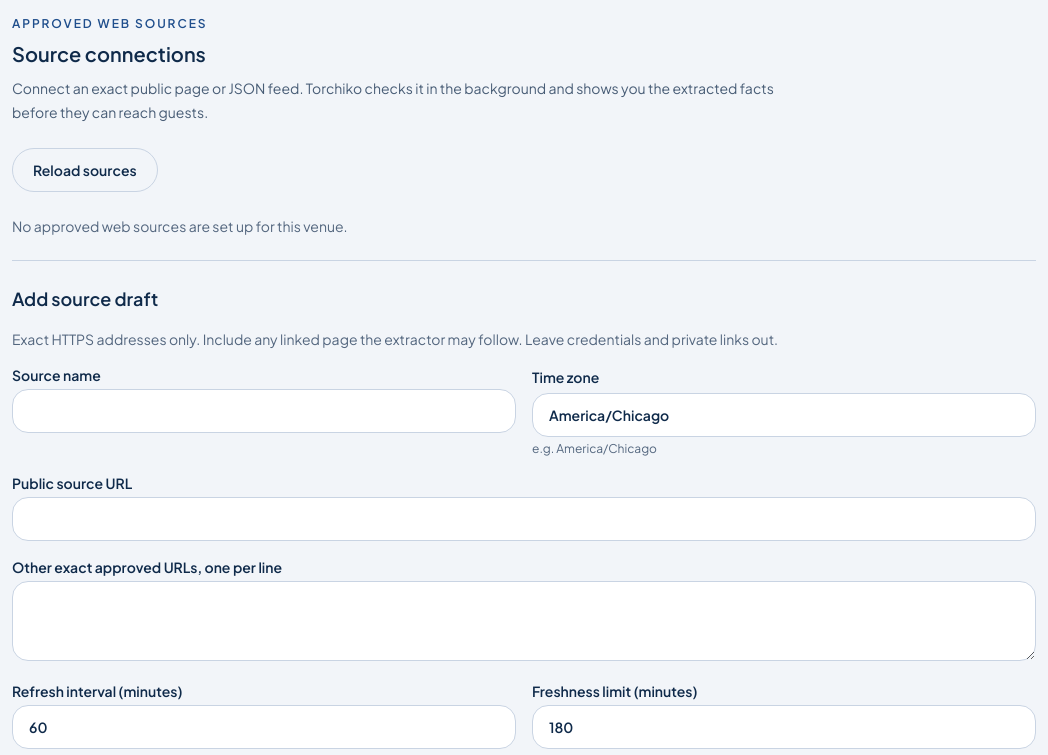
Test: SourceConnectionsSettings › creates a paused draft from labeled URL and deterministic selector controls
The image size is (1048, 755).
Expected: the text "No approved web sources are set up for this venue." is shown, [12, 217, 348, 235]
In the field labelled "Source name": (264, 411) [12, 389, 516, 433], type "Public feed"
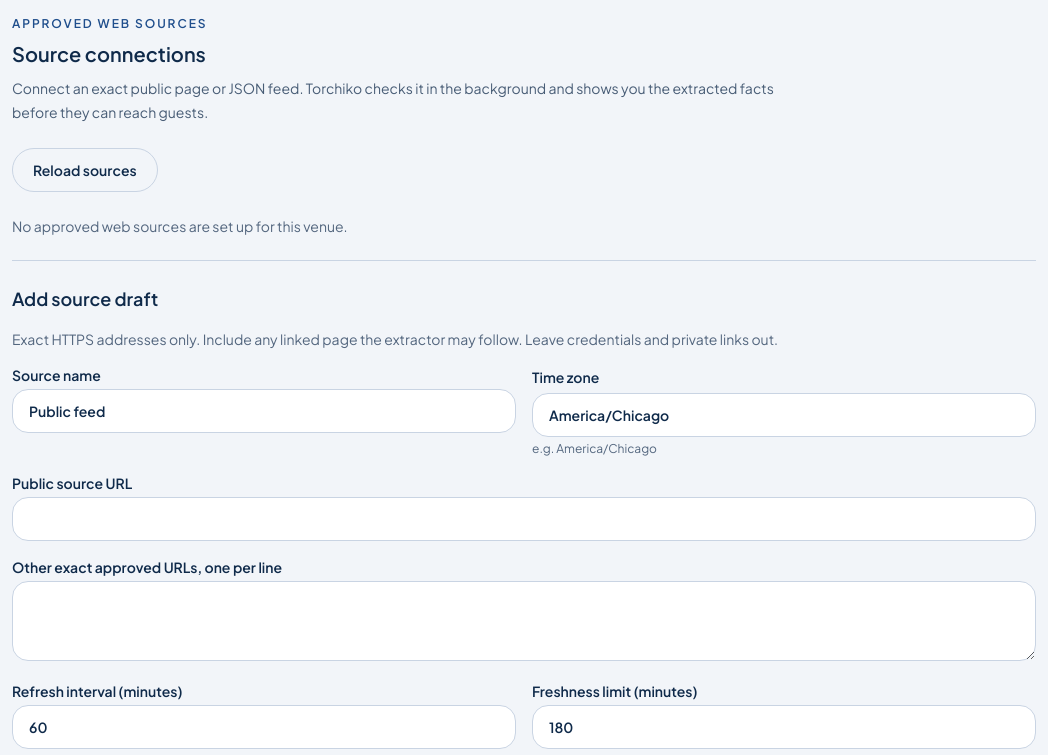
In the field labelled "Public source URL": (524, 519) [12, 497, 1036, 541], type "https://example.org/feed"
(page scrolled)
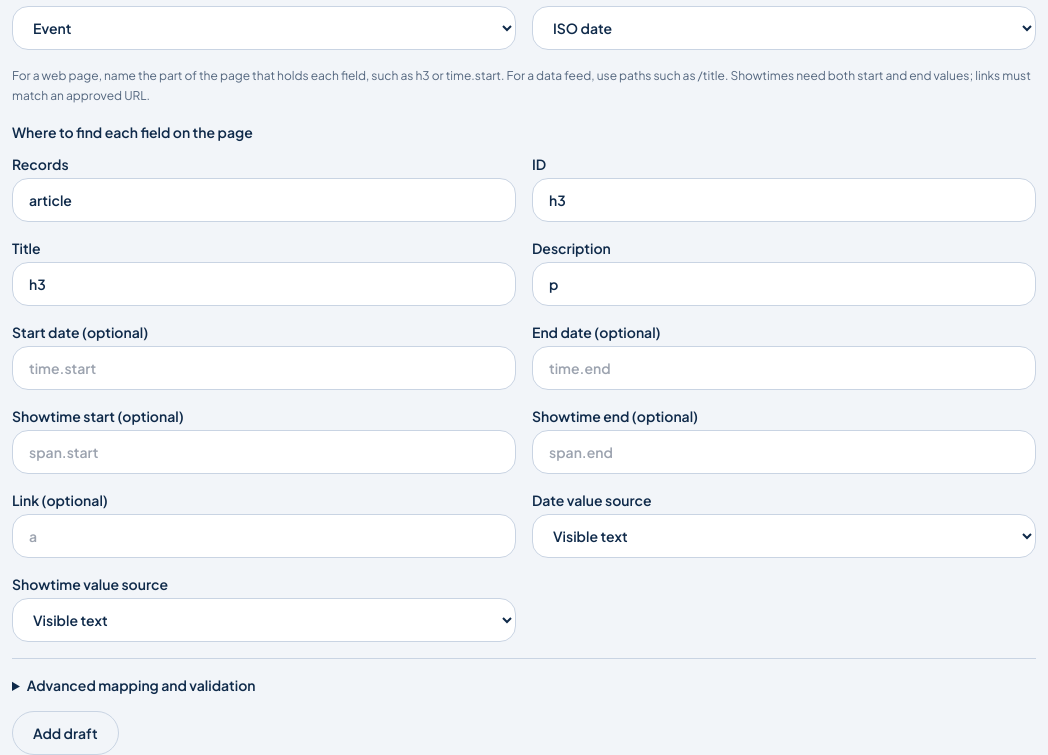
Click the button "Add draft": (65, 733) [12, 711, 119, 754]
(page scrolled)
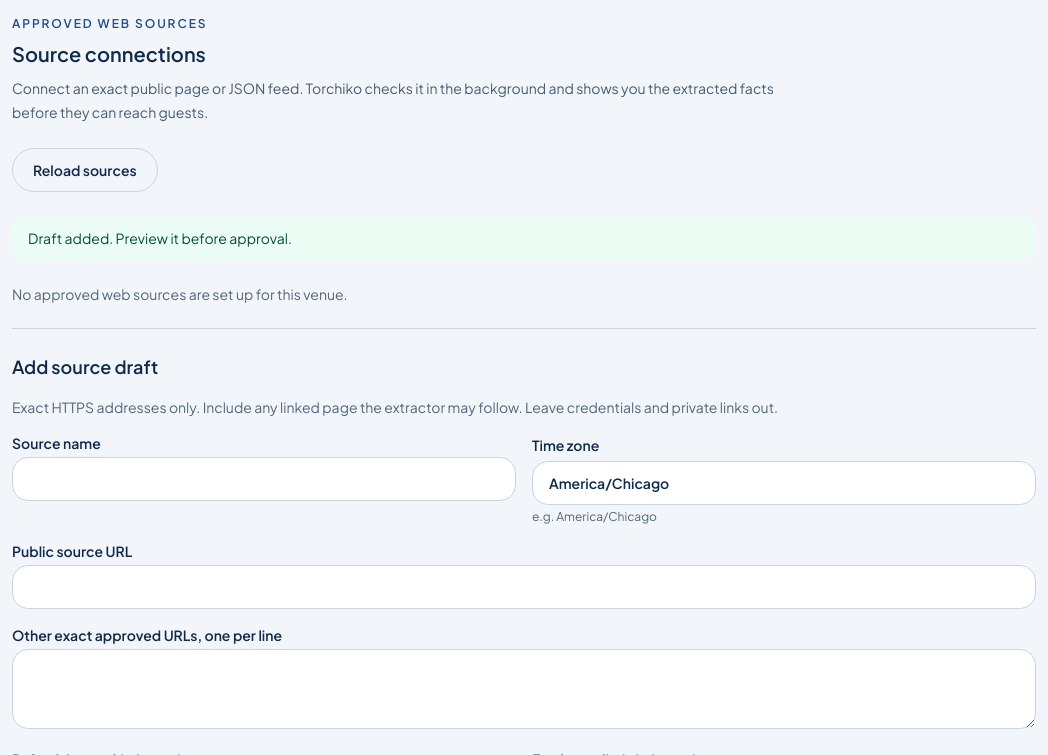
Result: the message shows "Preview it before approval" at [28, 229, 292, 247]
